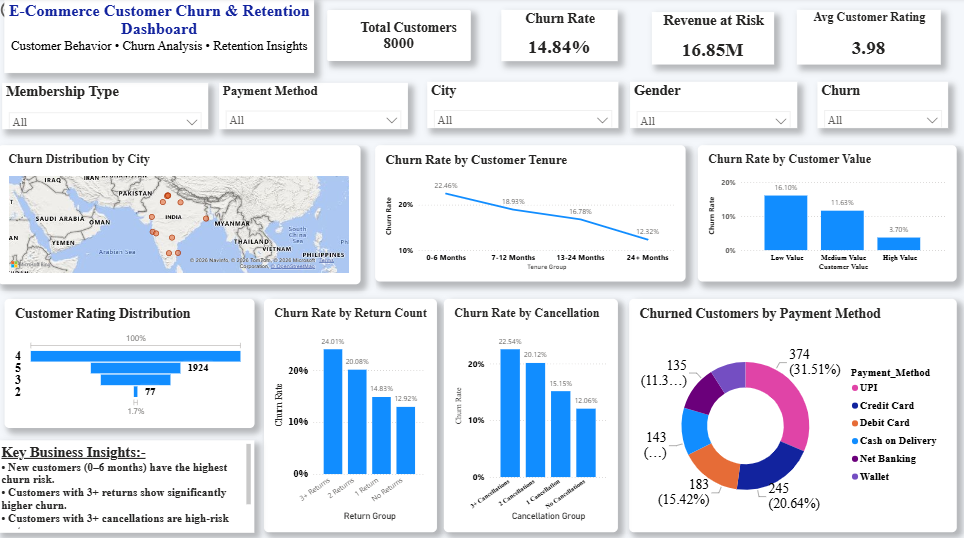

Layout of this report page (visuals, bound fields, positions):
{"tool":"powerbi","page":{"name":"E-Commerce Churn Dashboard","canvas":[1600,900],"ordinal":0},"visuals":[{"type":"card","title":"Churn Rate","fields":{"Values":["Ecommerce.Churn Rate"]},"box":[834,20,192,84],"z":0},{"type":"actionButton","box":[734.2,458.2,100,40],"z":4000},{"type":"slicer","title":"City","fields":{"Values":["Ecommerce.City"]},"box":[710,138,316,76],"z":6000},{"type":"slicer","title":"Gender","fields":{"Values":["Ecommerce.Gender"]},"box":[1046,138,276,76],"z":7000},{"type":"slicer","title":"Churn","fields":{"Values":["Ecommerce.Churn"]},"box":[1356,138,216,76],"z":8000},{"type":"map","title":"Churn Distribution by City","fields":{"Category":["Ecommerce.City"]},"box":[0,244,600,230],"z":12000},{"type":"lineChart","title":"Churn Rate by Customer Tenure","fields":{"Category":["Ecommerce.Tenure Group"],"Y":["Ecommerce.Churn Rate"]},"box":[624,244,514,226],"z":13000},{"type":"funnel","title":"Customer Rating Distribution","fields":{"Category":["Ecommerce.Rating Group"],"Y":["CountNonNull(Ecommerce.Customer_ID)"]},"box":[10,498,414,214],"z":14000},{"type":"donutChart","title":"Churned Customers by Payment Method","fields":{"Category":["Ecommerce.Payment_Method"],"Y":["Ecommerce.Churned Customers"]},"box":[1044,498,542,386],"z":15000},{"type":"clusteredColumnChart","title":"Churn Rate by Return Count","fields":{"Category":["Ecommerce.Return Group"],"Y":["Ecommerce.Churn Rate"]},"box":[440,498,286,386],"z":16000},{"type":"clusteredColumnChart","title":"Churn Rate by Cancellation","fields":{"Category":["Ecommerce.Cancellation Group"],"Y":["Ecommerce.Churn Rate"]},"box":[738,498,288,386],"z":17000},{"type":"clusteredColumnChart","title":"Churn Rate by Customer Value","fields":{"Category":["Ecommerce.Customer Value"],"Y":["Ecommerce.Churn Rate"]},"box":[1158,244,428,226],"z":18000},{"type":"card","title":"Total Customers","fields":{"Values":["Ecommerce.Total Customers"]},"box":[544,20,238,84],"z":18001},{"type":"card","title":"Revenue at Risk","fields":{"Values":["Ecommerce.Revenue Impact"]},"box":[1082,24,202,86],"z":18003},{"type":"card","title":"Avg Customer Rating","fields":{"Values":["Ecommerce.Avg Customer Rating"]},"box":[1322,20,238,90],"z":18004},{"type":"slicer","title":"Membership Type","fields":{"Values":["Ecommerce.Membership_Type"]},"box":[8,140,340,76],"z":18005},{"type":"slicer","title":"Payment Method","fields":{"Values":["Ecommerce.Payment_Method"]},"box":[366,140,312,76],"z":18006},{"type":"textbox","box":[10,0,512,124],"z":18007},{"type":"textbox","box":[0,732,424,152],"z":18008}]}

Visuals, with their boxes in screenshot pixels (x1, y1, x2, y2), scaled from the page's 1600x900 canvas onto the 964x538 screenshot:
"Churn Rate" card: locate(502, 12, 618, 62)
actionButton: locate(442, 274, 503, 298)
"City" slicer: locate(428, 82, 618, 128)
"Gender" slicer: locate(630, 82, 797, 128)
"Churn" slicer: locate(817, 82, 947, 128)
"Churn Distribution by City" map: locate(0, 146, 362, 283)
"Churn Rate by Customer Tenure" lineChart: locate(376, 146, 686, 281)
"Customer Rating Distribution" funnel: locate(6, 298, 255, 426)
"Churned Customers by Payment Method" donutChart: locate(629, 298, 956, 528)
"Churn Rate by Return Count" clusteredColumnChart: locate(265, 298, 437, 528)
"Churn Rate by Cancellation" clusteredColumnChart: locate(445, 298, 618, 528)
"Churn Rate by Customer Value" clusteredColumnChart: locate(698, 146, 956, 281)
"Total Customers" card: locate(328, 12, 471, 62)
"Revenue at Risk" card: locate(652, 14, 774, 66)
"Avg Customer Rating" card: locate(797, 12, 940, 66)
"Membership Type" slicer: locate(5, 84, 210, 129)
"Payment Method" slicer: locate(221, 84, 408, 129)
textbox: locate(6, 0, 315, 74)
textbox: locate(0, 438, 255, 528)
